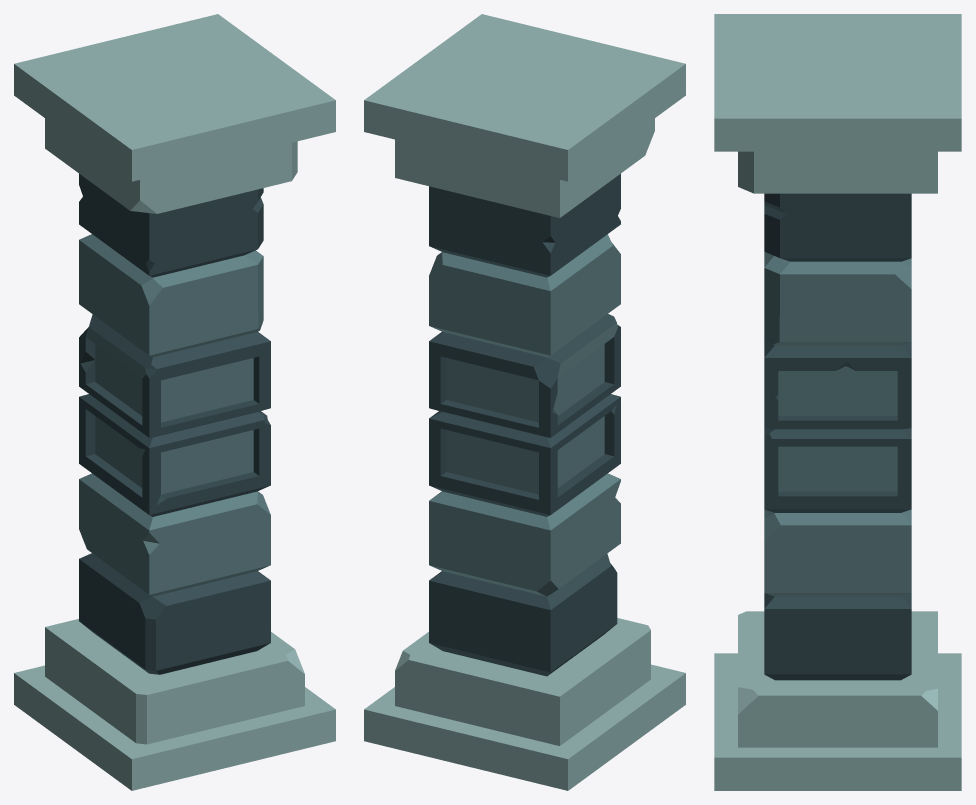
File: Pillar 1.fbx
The picture shows the model from 3 angles, left to right: view 1: azimuth 30°, elevation 25°; view 2: azimuth 150°, elevation 25°; view 3: azimuth 270°, elevation 25°; orthographic projection. The views are drawn at different scales.
Parts seen in each view (by area): view 1: Pillar 1; view 2: Pillar 1; view 3: Pillar 1.
Part boxes in pixels (left/top/right/bottom): Pillar 1: left=14, top=14, right=335, bottom=790; Pillar 1: left=364, top=14, right=685, bottom=790; Pillar 1: left=714, top=14, right=961, bottom=790.
Bounding box in the file's own units: 100 × 300 × 100.
Materials: 1 (1 with a texture image).
